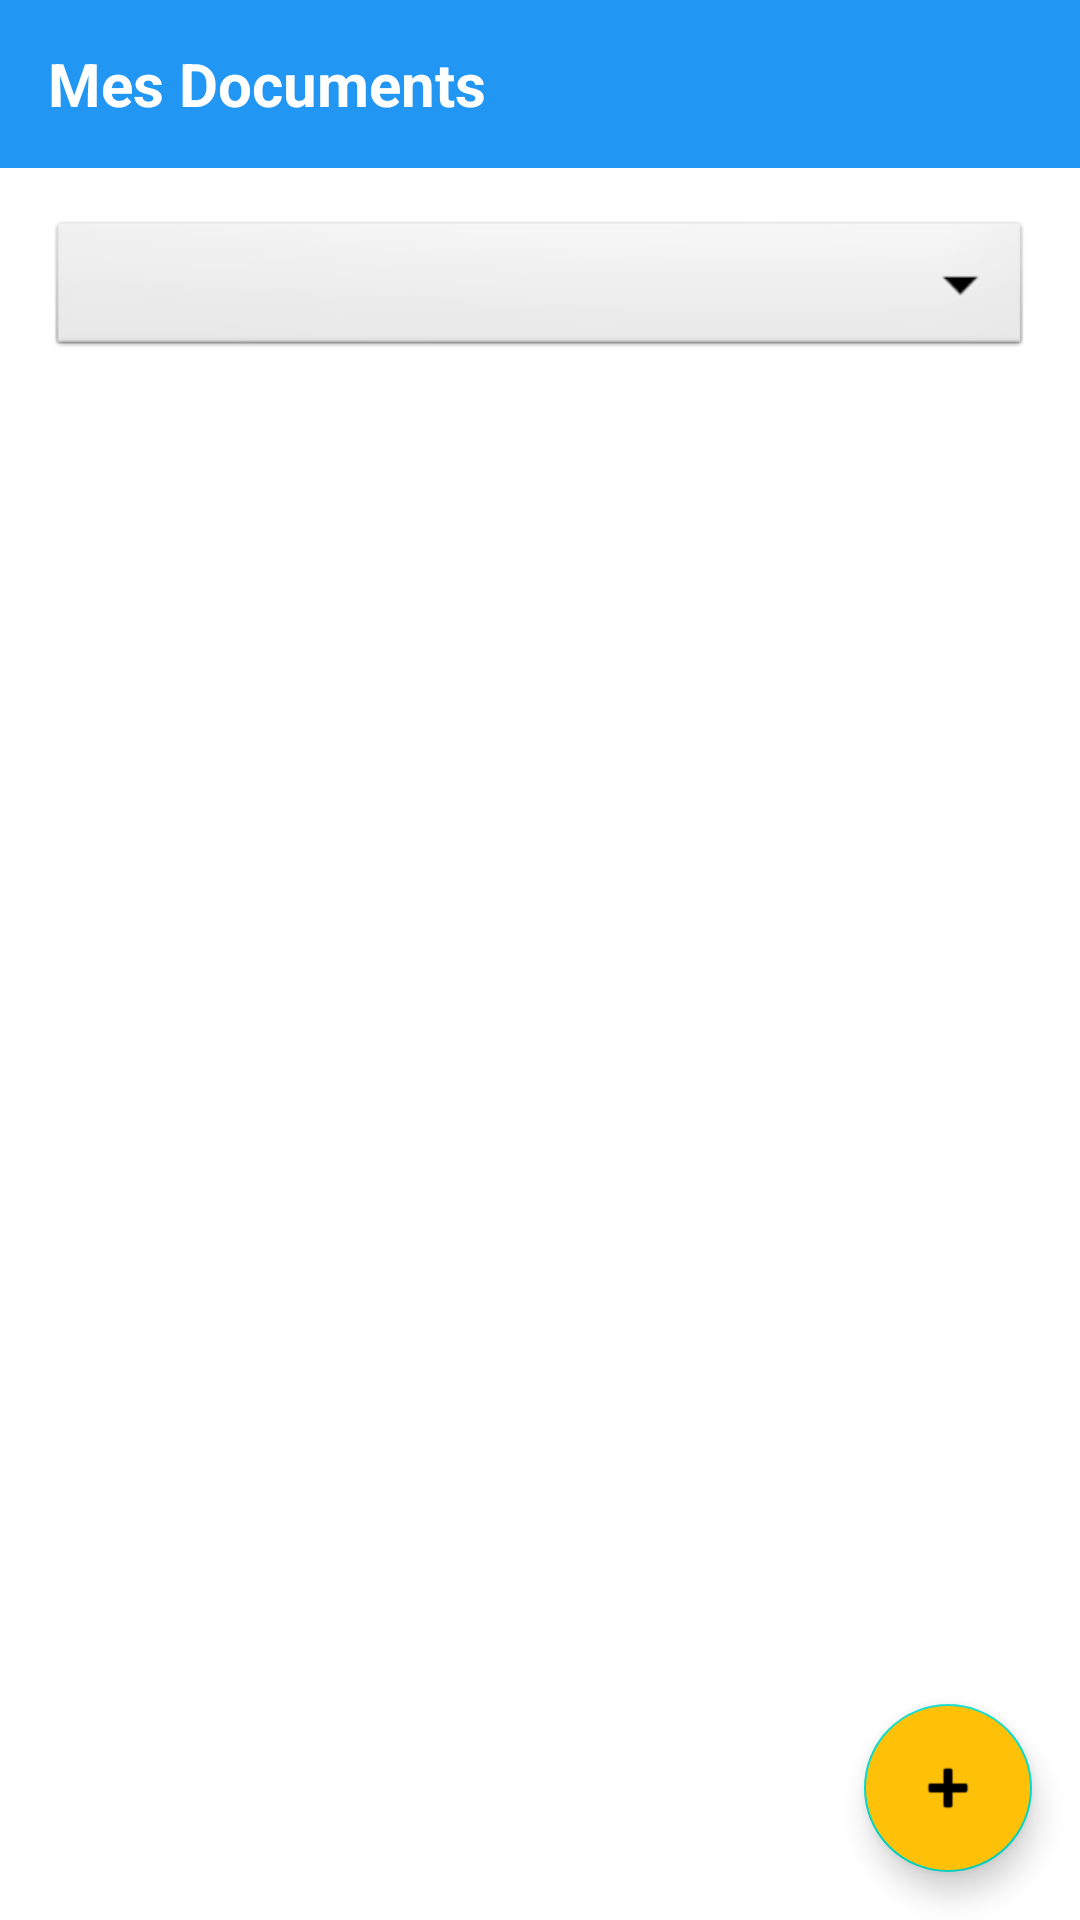

Icons on this 1080×1920 Android screen, each with its box as bbox=(x1, y1, x2, y2):
Ajouter un document: bbox=(864, 1704, 1032, 1872)
